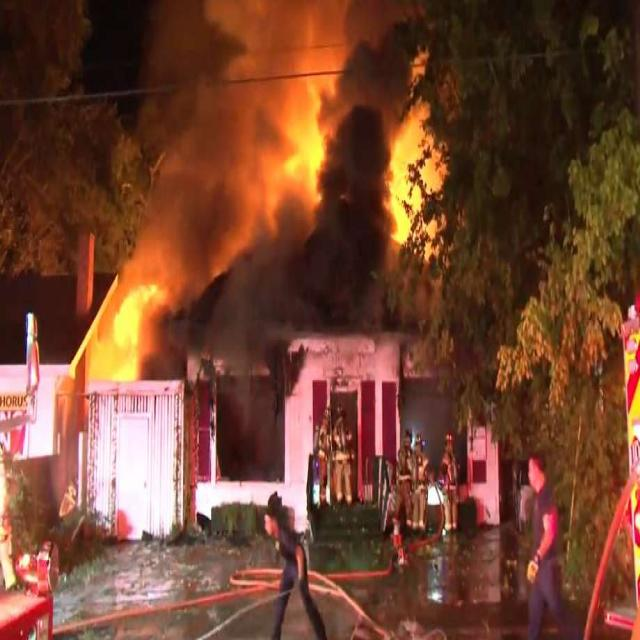fire: (106, 268, 149, 386)
smoke: (328, 132, 390, 314), (210, 264, 314, 332)
